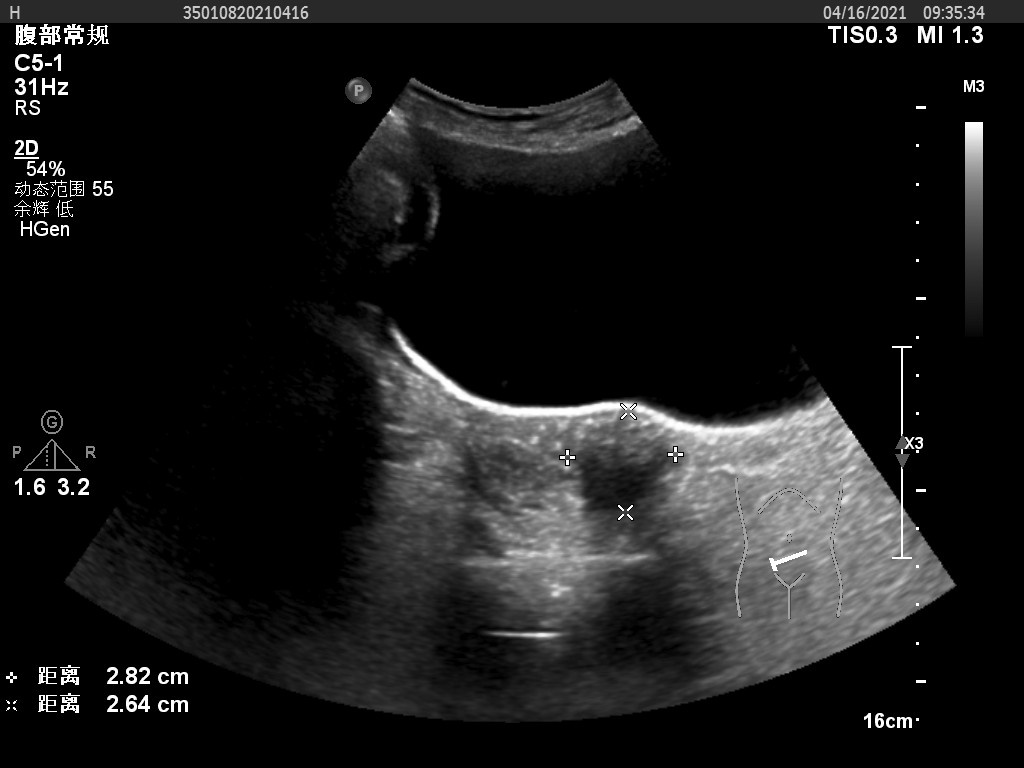肌瘤: (567, 414, 680, 517)
